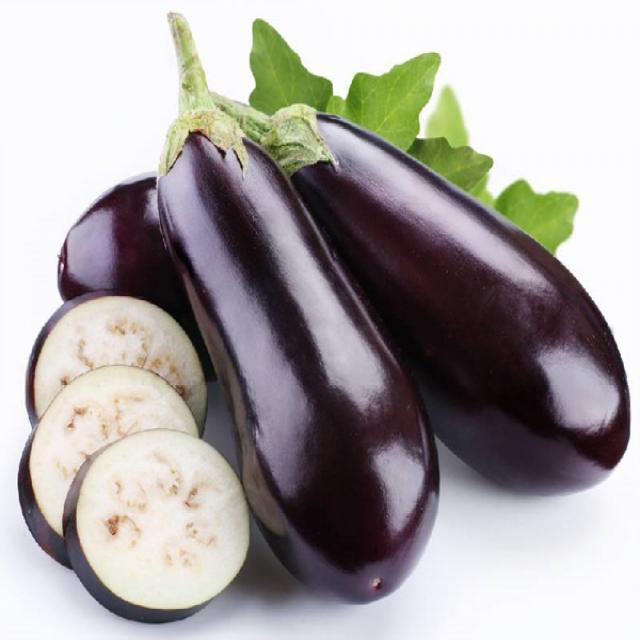eggplant: (145, 30, 432, 610), (22, 276, 258, 636)
